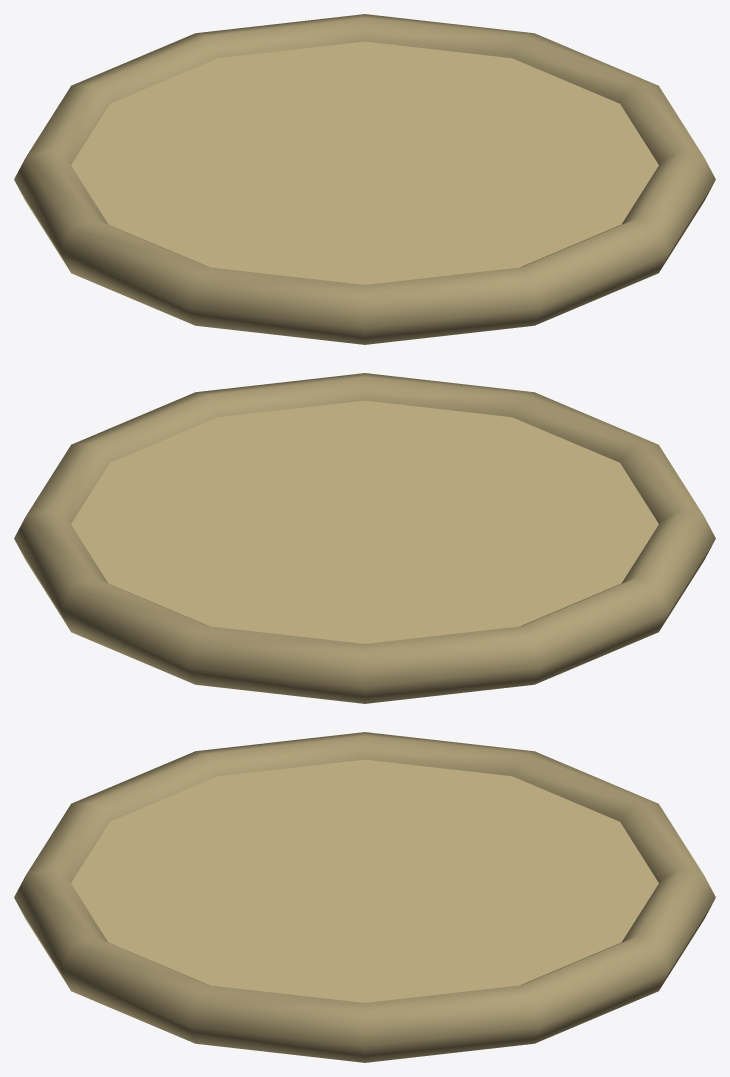
The model's file is MassaPizzaCrua.fbx.
3 renders of one model, top to bottom at view 1: azimuth 30°, elevation 25°; view 2: azimuth 150°, elevation 25°; view 3: azimuth 270°, elevation 25°, orthographic.
Parts seen in each view (by area): view 1: MassaPizzaCrua; view 2: MassaPizzaCrua; view 3: MassaPizzaCrua.
Boxes of the visible parts, x1=… form: MassaPizzaCrua: x1=14, y1=14, x2=715, y2=344; MassaPizzaCrua: x1=14, y1=373, x2=715, y2=703; MassaPizzaCrua: x1=14, y1=732, x2=715, y2=1062.
Size of the model in its own units: 166 by 14.44 by 166.
